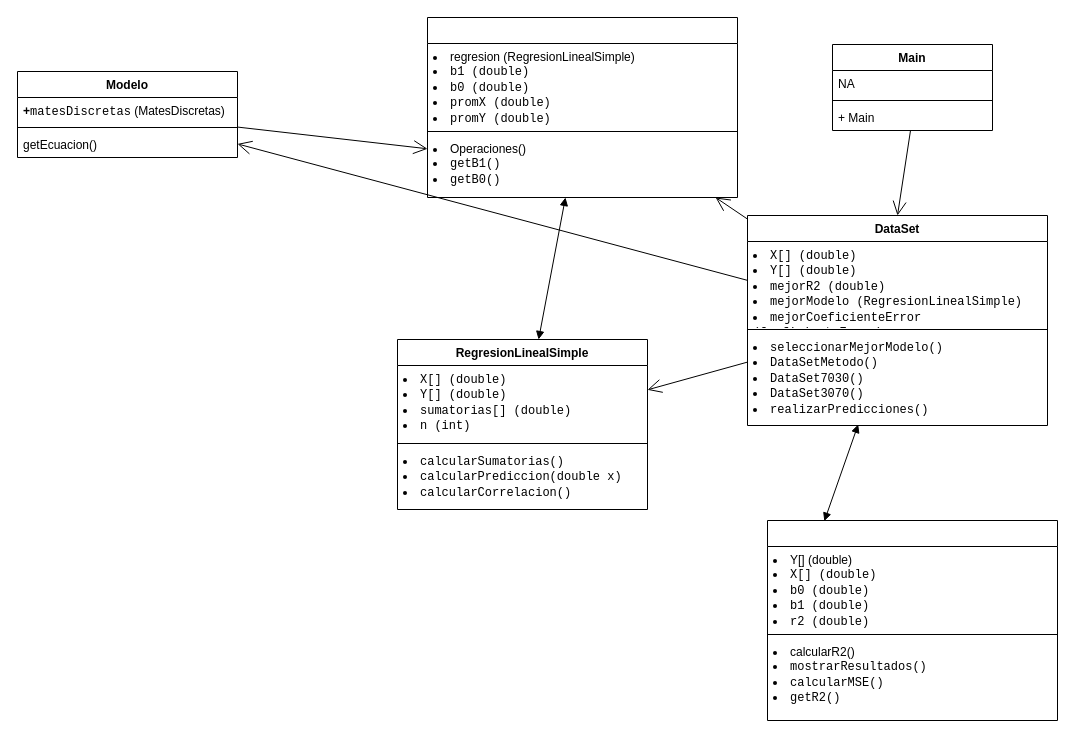
Some shapes in this 1075 by 741 pixel diagram are drawn without their labels. The box of each missing label's shape, as (x1, y1, x2, y2) in pixels:
CoeficienteError: (766, 520, 1058, 720)
MatesDiscretas: (426, 16, 738, 198)
